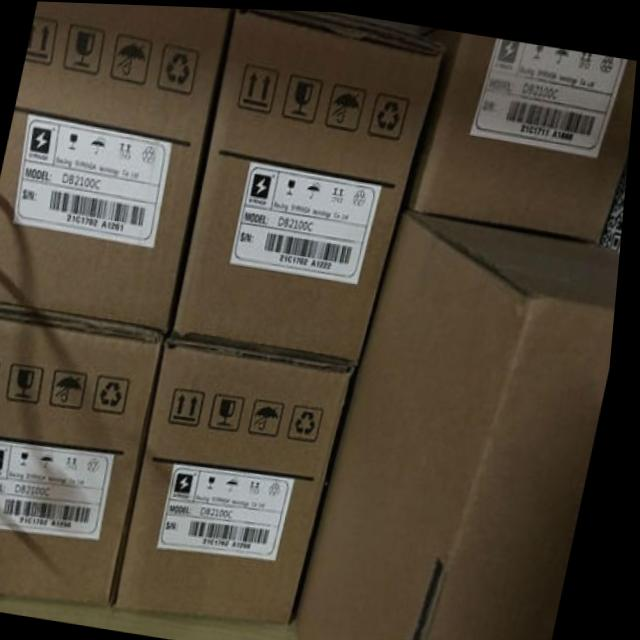box: (306, 208, 624, 640), (176, 7, 447, 363), (0, 1, 233, 334), (122, 335, 361, 624), (0, 309, 171, 605), (407, 34, 637, 239)
